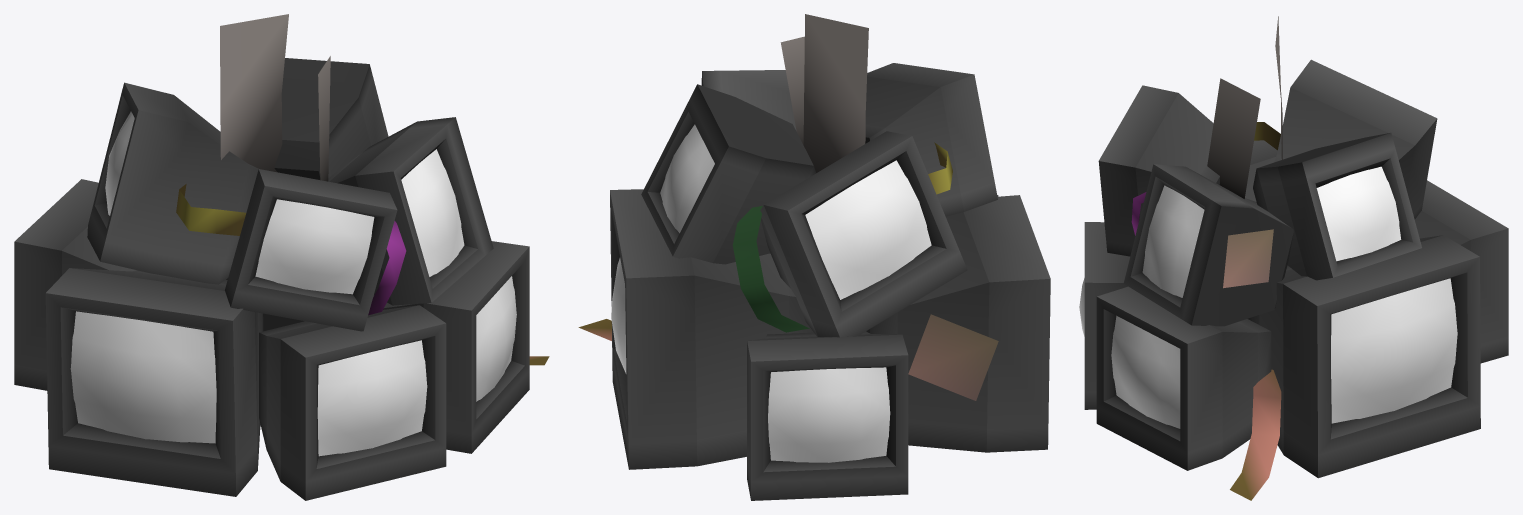
File: target.glb
3 renders of one model, left to right at view 1: azimuth 30°, elevation 25°; view 2: azimuth 150°, elevation 25°; view 3: azimuth 270°, elevation 25°, orthographic. The views are drawn at different scales.
Parts seen in each view (by area): view 1: CRT.002, CRT, CRT.007, CRT.003, CRT.006, CRT.001, Plane.001, CRT.008, CRT.005; view 2: CRT.004, CRT.007, CRT.005, CRT.002, CRT.008, Plane.001, CRT.003, Plane, CRT.006; view 3: CRT.004, CRT.001, CRT.006, CRT.008, CRT.007, CRT.003, Plane.001, CRT.005, CRT, Plane, CRT.002.
Part boxes in pixels (box(x1,y1,x2,y2)): CRT.002: box(45, 268, 263, 496); CRT: box(259, 305, 446, 500); CRT.007: box(87, 82, 258, 284); CRT.003: box(225, 169, 397, 331); CRT.006: box(328, 117, 493, 305); CRT.001: box(373, 241, 529, 453); Plane.001: box(176, 14, 549, 365); CRT.008: box(274, 58, 388, 179); CRT.005: box(14, 179, 136, 390); CRT.004: box(610, 189, 813, 469); CRT.007: box(760, 131, 967, 337); CRT.005: box(747, 331, 908, 500); CRT.002: box(866, 195, 1050, 452); CRT.008: box(641, 84, 815, 264); Plane.001: box(578, 14, 952, 340); CRT.003: box(865, 63, 997, 216); Plane: box(908, 314, 998, 400); CRT.006: box(701, 70, 796, 130); CRT.004: box(1248, 235, 1480, 478); CRT.001: box(1096, 286, 1271, 470); CRT.006: box(1123, 164, 1293, 326); CRT.008: box(1253, 133, 1421, 280); CRT.007: box(1274, 59, 1437, 219); CRT.003: box(1098, 85, 1219, 256); Plane.001: box(1131, 16, 1282, 500); CRT.005: box(1415, 180, 1508, 363); CRT: box(1079, 222, 1129, 409); Plane: box(1223, 229, 1273, 288); CRT.002: box(1245, 140, 1277, 318).
Bounding box in the file's own units: 19.58 × 15.34 × 16.58.
